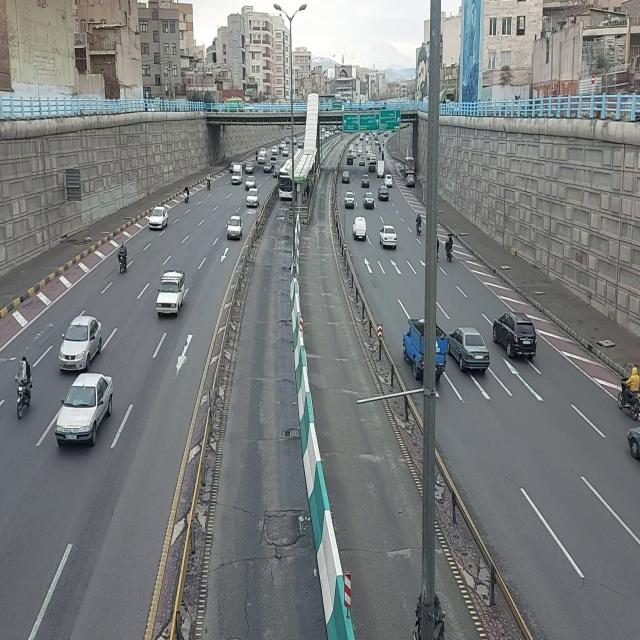Car: (55, 371, 115, 449), (58, 311, 105, 373), (492, 310, 539, 360), (447, 325, 491, 375), (148, 204, 170, 232), (378, 223, 398, 251), (225, 215, 245, 242), (245, 188, 261, 209)
Motorcycle: (618, 364, 640, 422), (16, 353, 34, 421), (443, 231, 457, 265), (117, 240, 129, 276), (415, 212, 423, 241)
Pickup: (156, 267, 187, 319), (351, 214, 369, 242), (230, 164, 244, 186)
